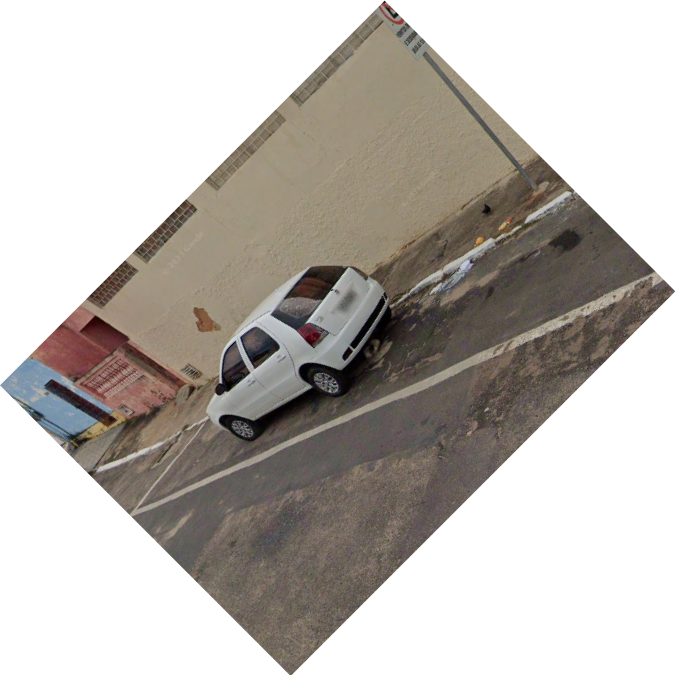car: (202, 257, 401, 454)
